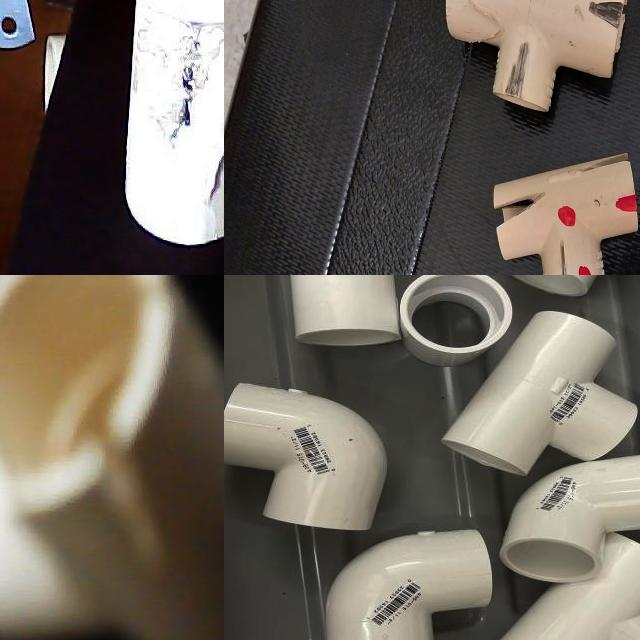Defective: (142, 0, 224, 148), (90, 423, 168, 577), (0, 362, 33, 511), (144, 275, 186, 348), (196, 132, 224, 216), (437, 262, 458, 275)
L Joint: (224, 382, 390, 535), (500, 457, 640, 590), (325, 530, 493, 640)
T Joint: (0, 275, 224, 640), (441, 311, 639, 477), (500, 533, 640, 640), (518, 188, 640, 275)
